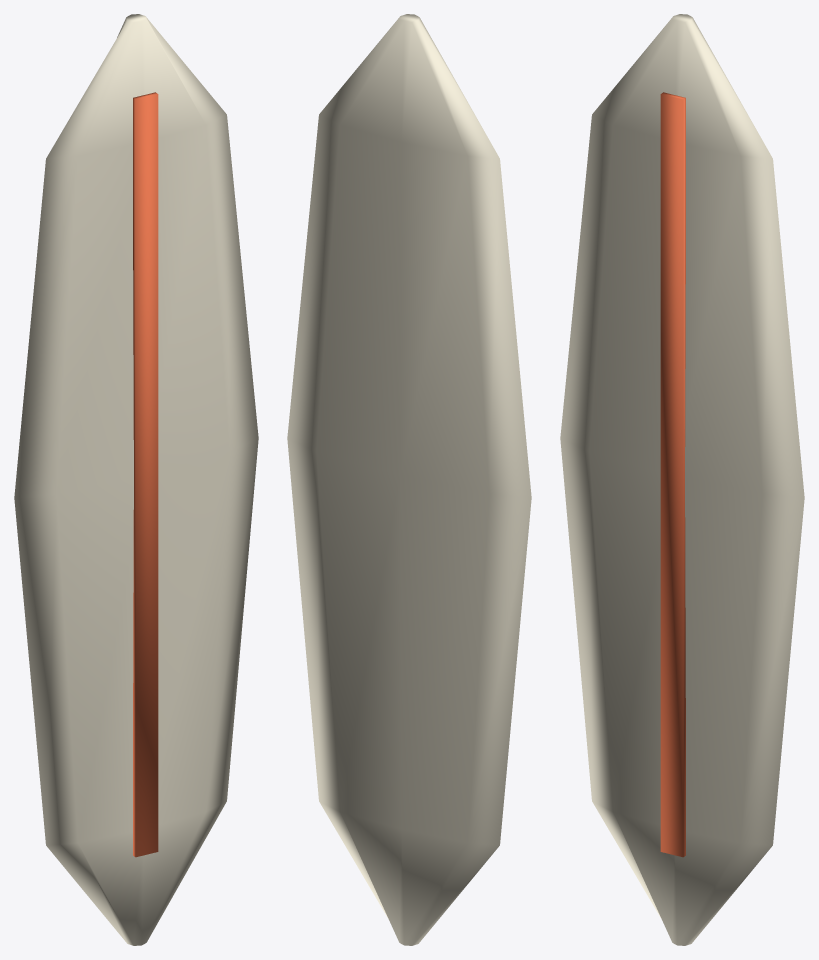
Rendered from surfboard.glb.
3 views of the same model, side by side, from view 1: azimuth 30°, elevation 25°; view 2: azimuth 150°, elevation 25°; view 3: azimuth 330°, elevation 25° (orthographic).
Visible parts, largest first — view 1: surfboard; view 2: surfboard; view 3: surfboard.
Boxes of the visible parts, x1=… form: surfboard: x1=14, y1=14, x2=258, y2=945; surfboard: x1=287, y1=14, x2=531, y2=945; surfboard: x1=560, y1=14, x2=804, y2=945.
Bounding box in the file's own units: 0.54 × 1.95 × 0.075.
